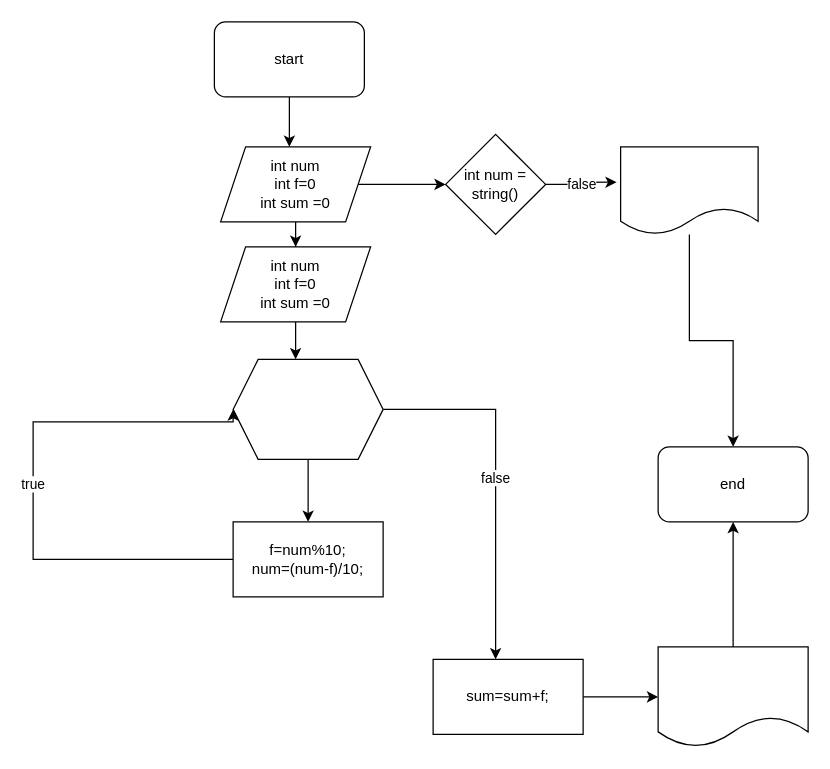
The diagram is 830 pixels wide and 769 high, and some of its shapes have lost their labels. The centre of each missing label's shape, as x and y in pixels:
"SUM": (732,696)
while(num!=0): (307,408)
wrong: (688,190)
